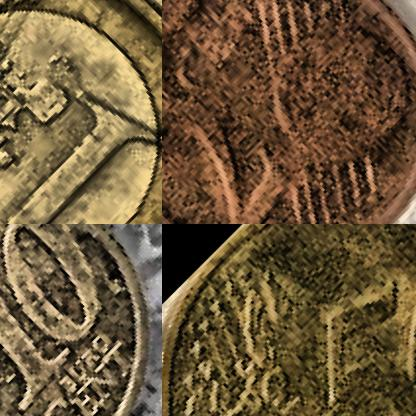coin: (162, 0, 415, 223), (162, 224, 415, 415), (0, 0, 161, 223), (0, 224, 161, 415)
